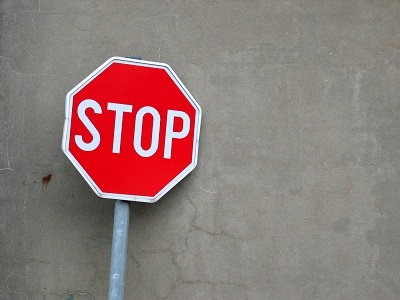stop: (73, 70, 194, 184)
